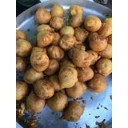bonda: (58, 66, 79, 89), (33, 77, 53, 100), (30, 49, 48, 72), (45, 94, 67, 112), (65, 100, 83, 122), (72, 49, 92, 68), (88, 33, 108, 52), (90, 74, 106, 94), (16, 38, 33, 56), (36, 30, 54, 46), (97, 57, 112, 76), (86, 15, 101, 32), (62, 32, 76, 50), (71, 4, 83, 25), (35, 7, 50, 22), (16, 81, 27, 100), (53, 3, 65, 17)
